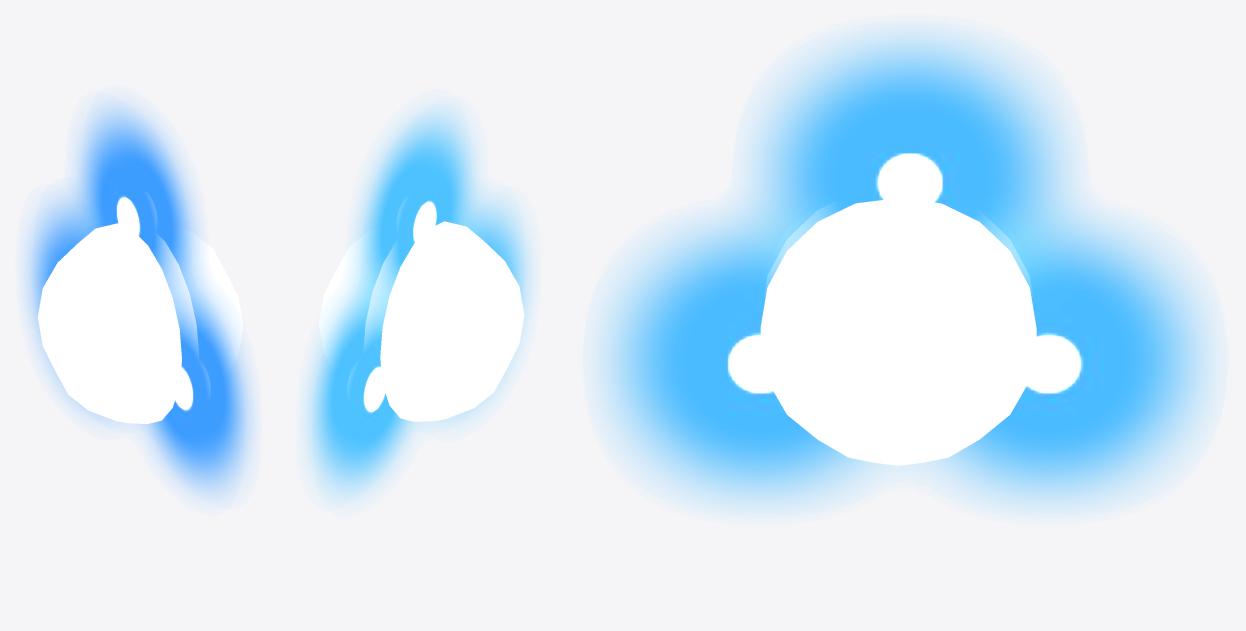
Rendered from 1cea36b2-cbf3-4710-bc0d-17ab4c875cc3.glb.
3 views of the same model, side by side, from view 1: azimuth 30°, elevation 25°; view 2: azimuth 150°, elevation 25°; view 3: azimuth 270°, elevation 25° (orthographic). The views are drawn at different scales.
Visible parts, largest first — view 1: Plane.002; view 2: Plane.002; view 3: Plane.002.
Boxes of the visible parts, x1,y1,x2,y2 form: Plane.002: (25,102,252,498); Plane.002: (306,106,531,499); Plane.002: (597,30,1212,508).
Size of the model in its own units: 0.103 by 0.2348 by 0.2335.
2 materials, 1 textured.
